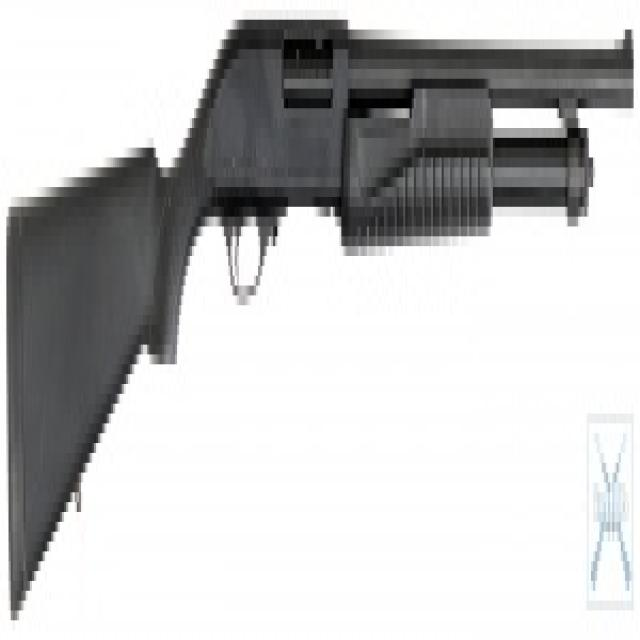rifle: (6, 1, 638, 623)
